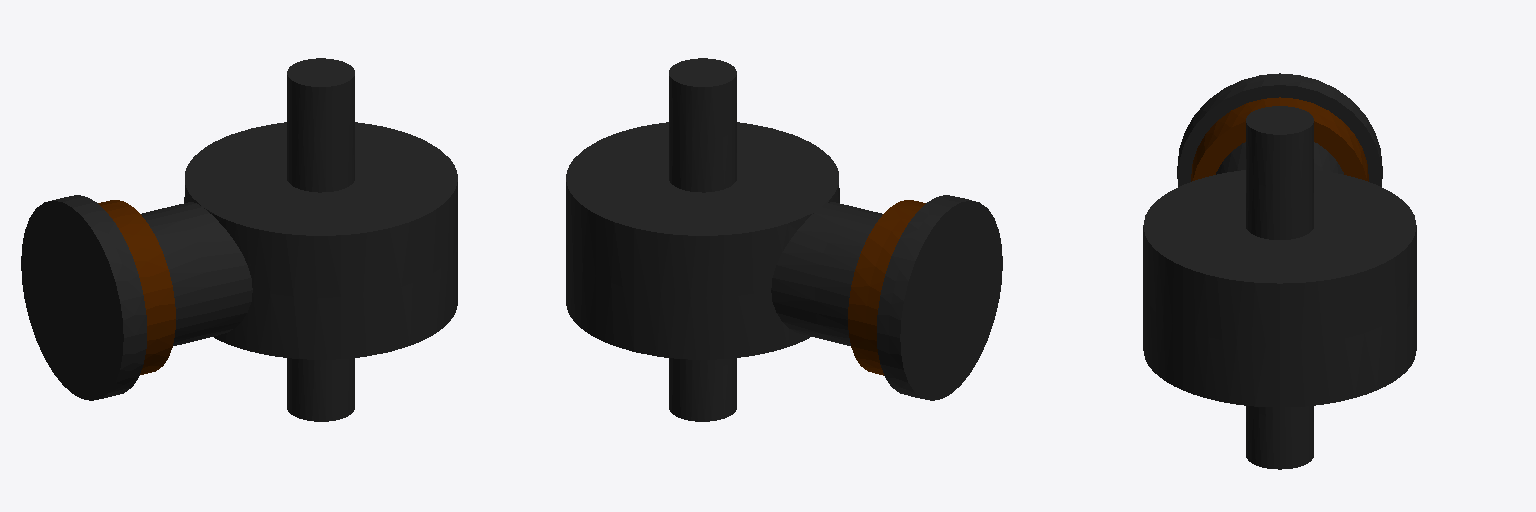
File: pieza6.obj
3 views of the same model, side by side, from view 1: azimuth 30°, elevation 25°; view 2: azimuth 150°, elevation 25°; view 3: azimuth 270°, elevation 25° (orthographic).
Parts seen in each view (by area): view 1: Body1_Body1.005; view 2: Body1_Body1.005; view 3: Body1_Body1.005.
Boxes of the visible parts, x1,y1,x2,y2 form: Body1_Body1.005: [21, 58, 457, 421]; Body1_Body1.005: [566, 58, 1002, 421]; Body1_Body1.005: [1143, 73, 1416, 469].
Bounding box in the file's own units: 0.0787 × 0.0686 × 0.0508.